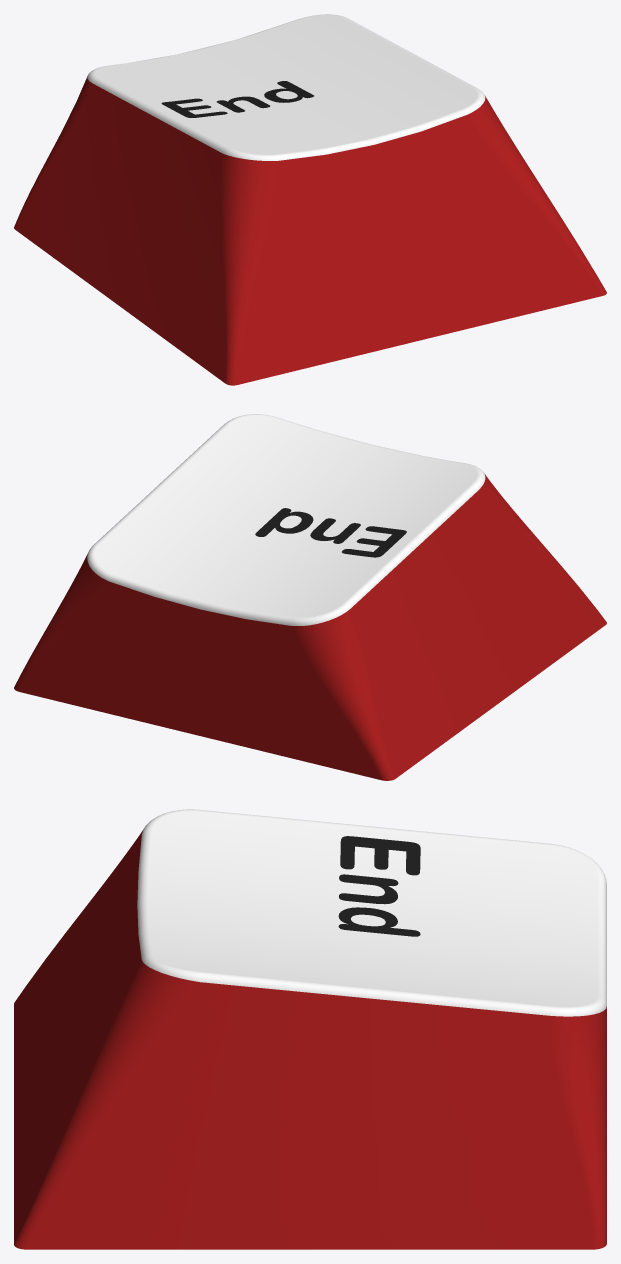
The model's file is End.fbx.
The picture shows the model from 3 angles, top to bottom: view 1: azimuth 30°, elevation 25°; view 2: azimuth 150°, elevation 25°; view 3: azimuth 270°, elevation 25°; orthographic projection. The views are drawn at different scales.
Parts seen in each view (by area): view 1: Body1; view 2: Body1; view 3: Body1.
Boxes of the visible parts, x1,y1,x2,y2 form: Body1: [14, 14, 606, 385]; Body1: [14, 414, 606, 780]; Body1: [14, 809, 606, 1249].
Size of the model in its own units: 18 by 7.85 by 18.
